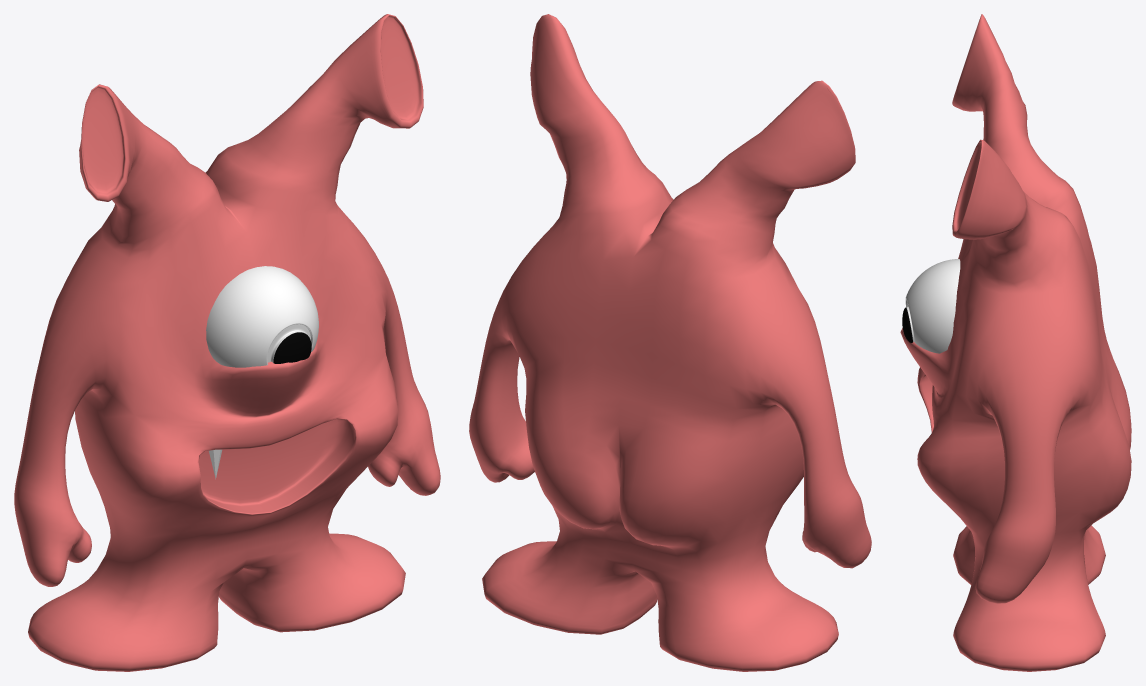
File: One Eyed Bitch.fbx
3 views of the same model, side by side, from view 1: azimuth 30°, elevation 25°; view 2: azimuth 150°, elevation 25°; view 3: azimuth 270°, elevation 25° (orthographic). The views are drawn at different scales.
Parts seen in each view (by area): view 1: pCube1, pSphere1; view 2: pCube1; view 3: pCube1, pSphere1.
Boxes of the visible parts, x1,y1,x2,y2 form: pCube1: [14, 14, 440, 671]; pSphere1: [206, 266, 318, 367]; pCube1: [469, 14, 871, 671]; pCube1: [900, 14, 1131, 671]; pSphere1: [902, 259, 960, 353].
Size of the model in its own units: 3.59 by 5.05 by 1.99.
